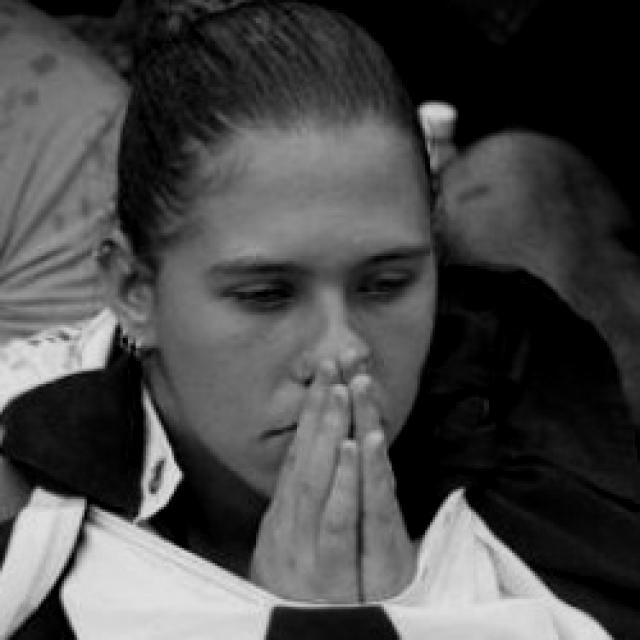real: (134, 32, 454, 508), (217, 259, 426, 324)
